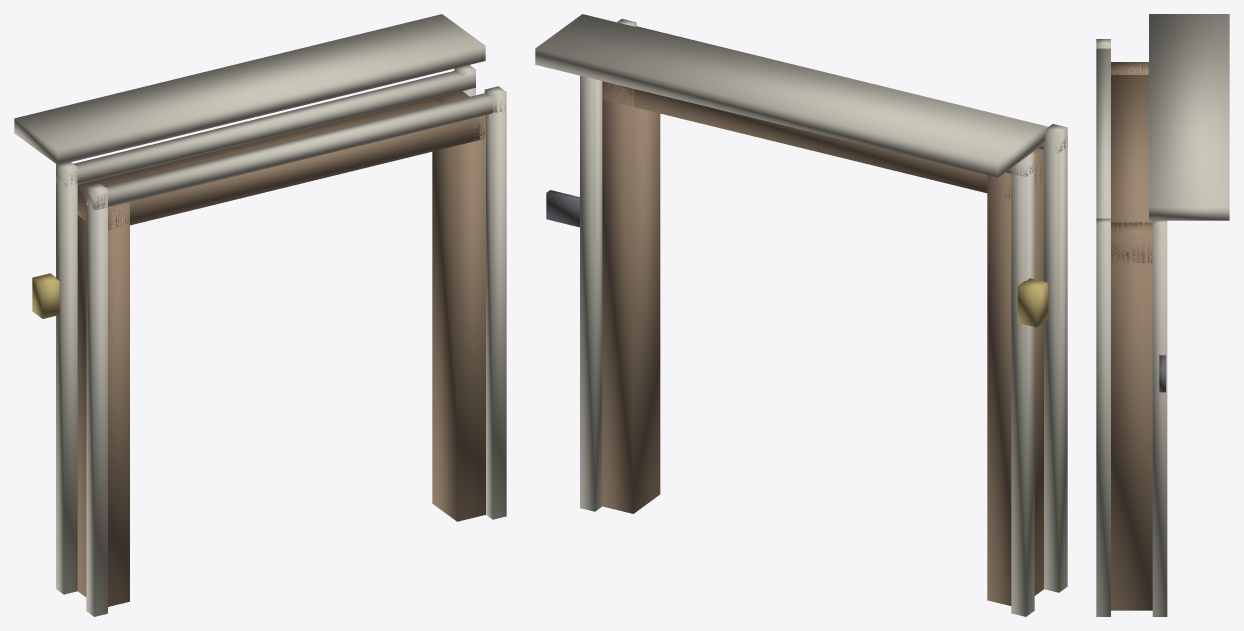
Rendered from doorway_motel_w182_h200_d24.glb.
The picture shows the model from 3 angles, left to right: view 1: azimuth 30°, elevation 25°; view 2: azimuth 150°, elevation 25°; view 3: azimuth 270°, elevation 25°; orthographic projection. The views are drawn at different scales.
Visible parts, largest first — view 1: world; view 2: world; view 3: world.
Part boxes in pixels (x1=…): world: x1=14, y1=14, x2=506, y2=616; world: x1=535, y1=14, x2=1067, y2=616; world: x1=1096, y1=14, x2=1229, y2=616.
Size of the model in its own units: 2.57 by 2.38 by 0.6953.
